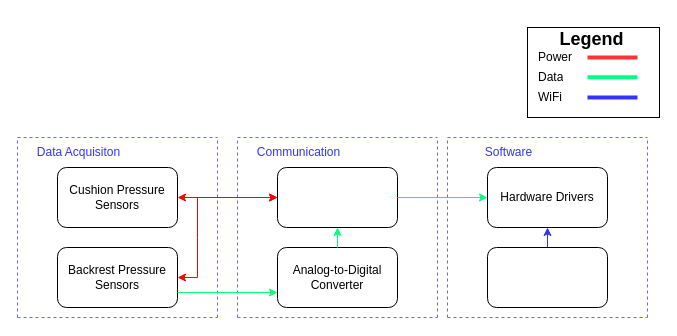
Image size: 677x336. Some labels were removed from this diagram. The centre of each missing label's shape, as x and y in pixels:
"ESP32 Microcontroller" goes at [337,197].
"HTTP Listener" goes at [547,277].
